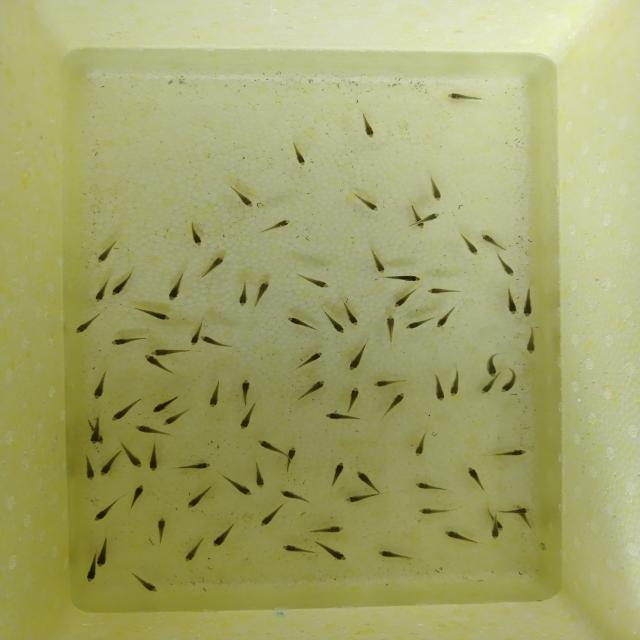fingerling: (343, 341, 377, 373), (185, 482, 218, 508), (224, 187, 258, 211), (351, 194, 388, 216), (180, 220, 209, 248), (108, 398, 141, 422), (314, 539, 349, 561), (288, 136, 312, 168), (166, 271, 190, 302), (95, 237, 120, 266), (292, 274, 334, 291), (452, 231, 480, 256), (152, 391, 182, 414), (91, 499, 121, 522), (446, 88, 486, 105), (518, 286, 538, 320), (384, 388, 410, 414), (140, 351, 170, 373), (495, 373, 528, 393), (207, 528, 237, 550), (298, 379, 328, 400), (110, 272, 136, 296), (325, 309, 348, 336), (95, 537, 114, 569), (70, 316, 100, 336), (256, 505, 282, 528), (228, 476, 255, 498), (133, 306, 175, 320), (409, 479, 448, 494), (293, 350, 325, 368), (327, 458, 349, 484), (106, 334, 144, 349), (286, 314, 314, 334), (372, 374, 407, 390), (133, 573, 161, 593), (251, 279, 273, 304), (180, 541, 202, 566), (200, 254, 226, 275), (266, 214, 296, 232), (358, 115, 380, 139), (92, 276, 112, 302), (343, 300, 363, 326), (124, 444, 144, 470), (282, 445, 302, 471), (467, 465, 486, 492), (432, 374, 448, 406), (441, 529, 473, 545), (403, 314, 431, 332), (186, 320, 204, 348), (343, 386, 364, 410), (90, 373, 108, 401), (148, 348, 193, 359), (434, 307, 455, 330), (234, 280, 250, 310), (235, 378, 255, 402), (161, 410, 191, 426), (525, 330, 542, 358), (238, 404, 255, 432), (368, 249, 387, 274), (374, 547, 410, 560), (202, 336, 235, 350), (393, 289, 417, 308), (134, 425, 172, 437), (304, 523, 345, 534), (324, 412, 369, 422), (413, 434, 431, 459), (447, 367, 461, 399), (258, 442, 286, 458), (279, 544, 313, 557), (206, 381, 222, 408), (176, 461, 215, 472), (130, 482, 145, 510), (428, 179, 444, 205), (380, 316, 398, 339), (497, 445, 531, 457), (357, 470, 377, 490), (347, 491, 380, 503), (480, 233, 506, 248), (407, 206, 423, 230), (378, 274, 426, 282), (155, 515, 169, 542), (100, 454, 117, 476), (83, 453, 96, 481), (279, 488, 307, 501), (497, 257, 516, 276), (415, 507, 455, 516), (254, 460, 266, 489), (477, 381, 500, 396), (505, 291, 518, 317), (426, 285, 463, 294), (86, 552, 96, 585), (146, 447, 158, 473), (487, 348, 497, 376), (498, 506, 532, 514), (91, 416, 100, 446), (490, 519, 500, 541), (422, 212, 439, 221)
